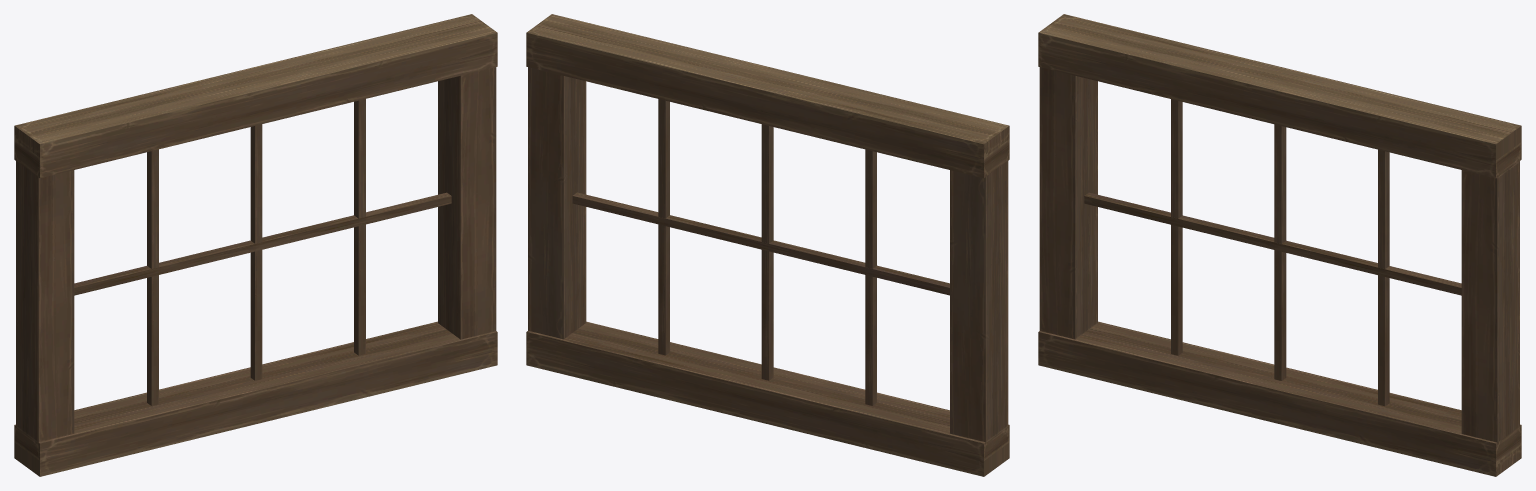
The model's file is SM_Stylized_Wood_Window.glb.
3 renders of one model, left to right at view 1: azimuth 30°, elevation 25°; view 2: azimuth 150°, elevation 25°; view 3: azimuth 330°, elevation 25°, orthographic.
Visible parts, largest first — view 1: SM_Stylized_Wood_Window; view 2: SM_Stylized_Wood_Window; view 3: SM_Stylized_Wood_Window.
Part boxes in pixels (<box>): SM_Stylized_Wood_Window: <box>14,14,497,476</box>; SM_Stylized_Wood_Window: <box>526,14,1009,476</box>; SM_Stylized_Wood_Window: <box>1038,14,1521,476</box>.
Bounding box in the file's own units: 1.64 × 1.14 × 0.1583.
1 material, 1 textured.
